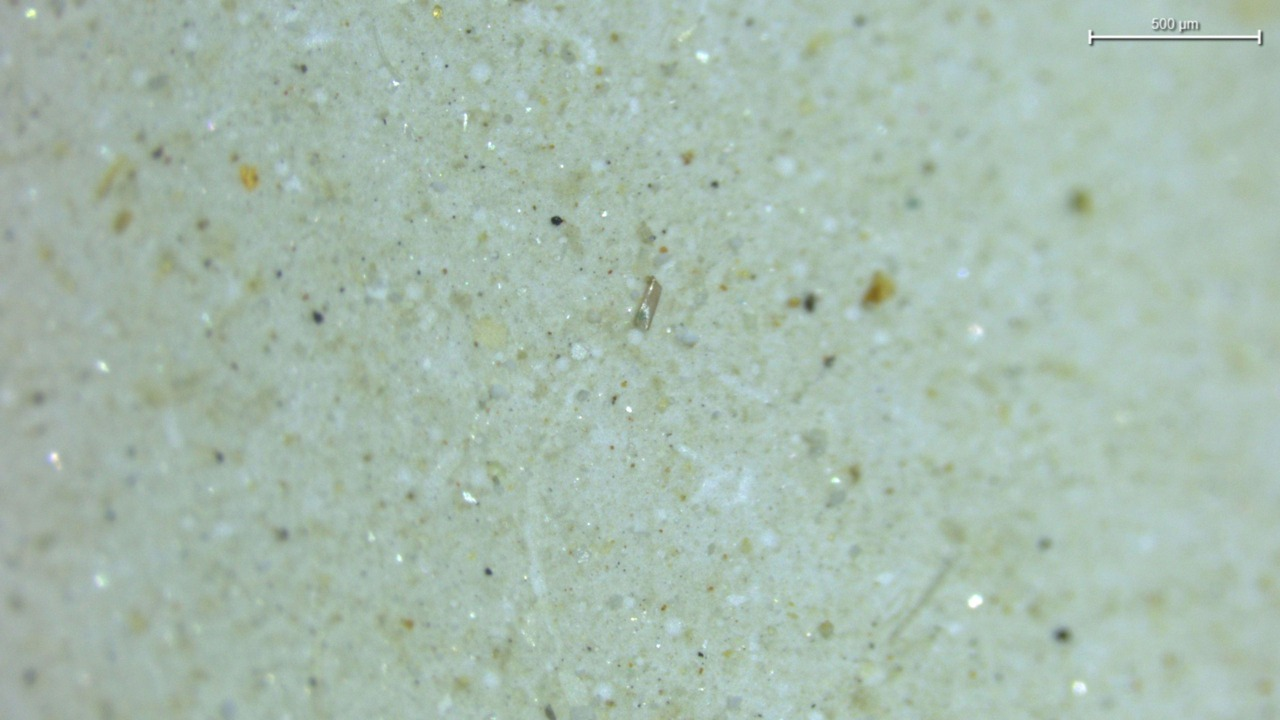microplastic_fragment: (632, 276, 661, 330)
